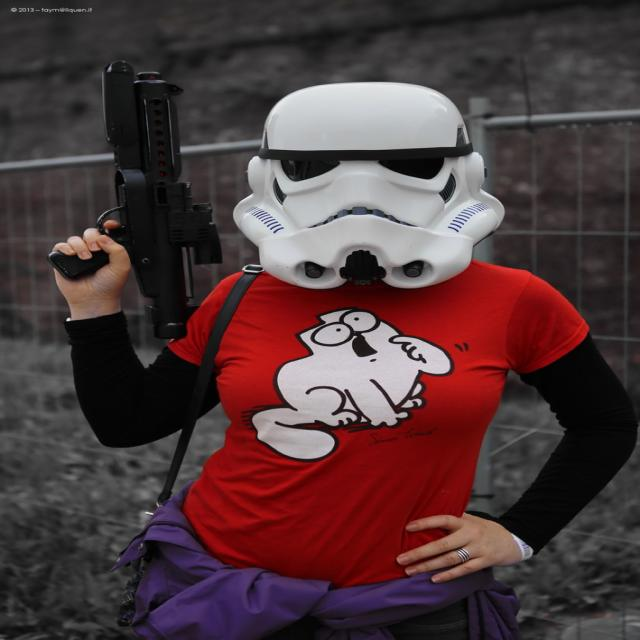Weapon: (44, 34, 286, 383)
